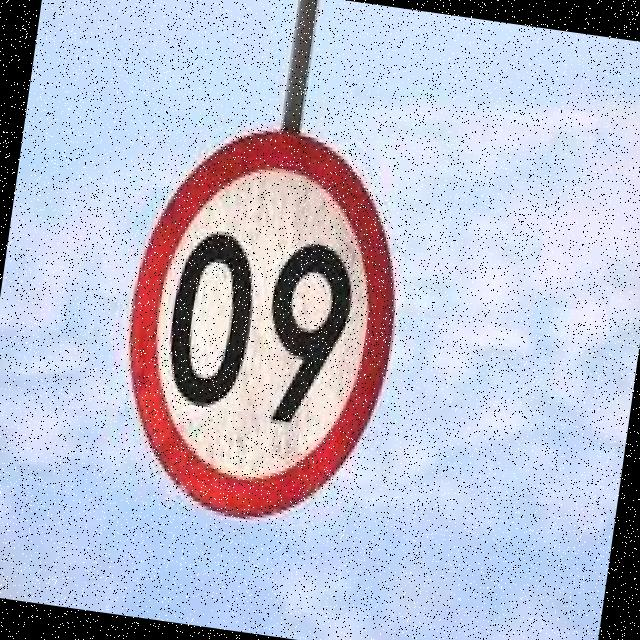speed_limit_60: (102, 112, 423, 542)
